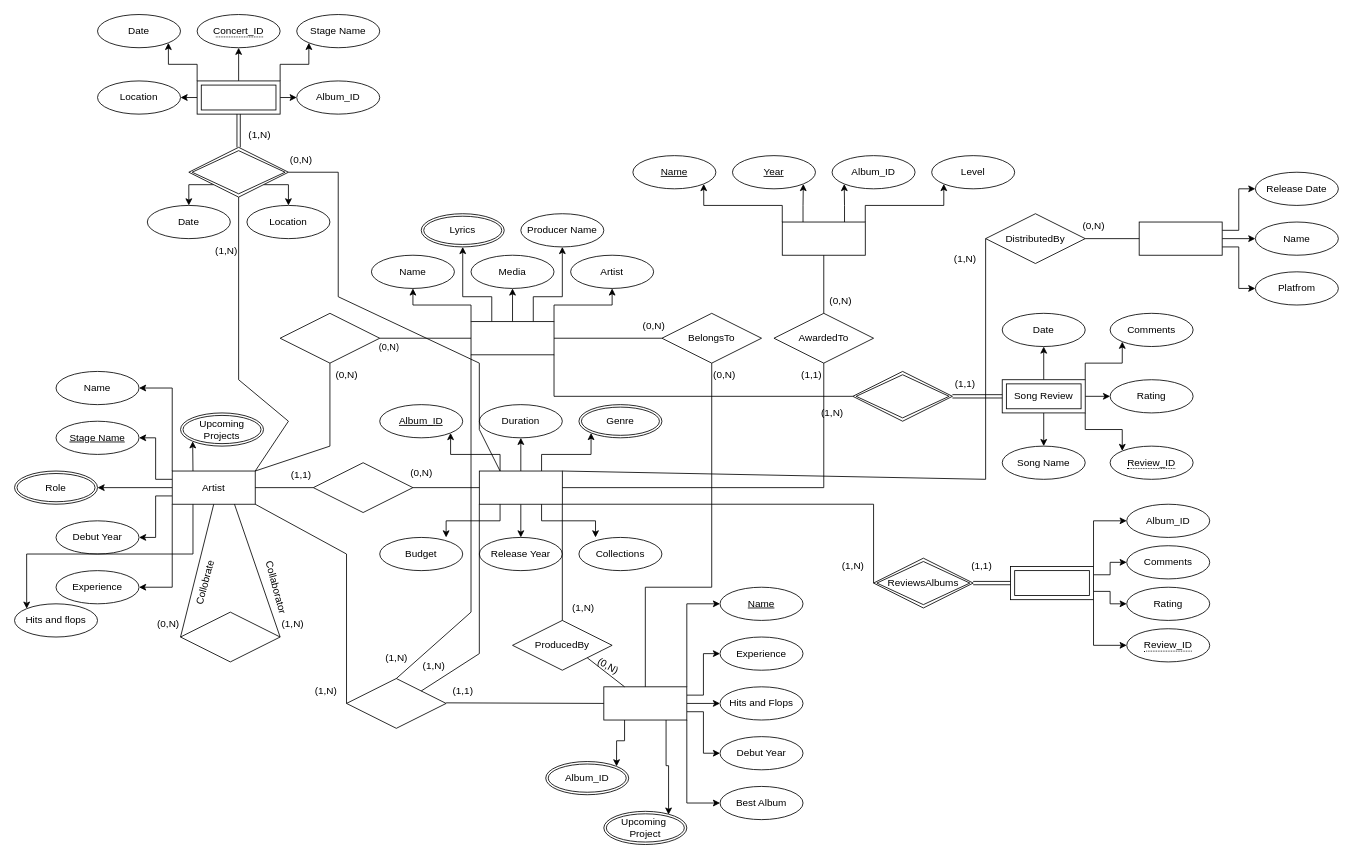
Image size: 1353x859. Some labels were removed from this diagram. Each missing label, with the centre of its shape:
Album: (x=520, y=487)
Album Review: (x=1052, y=583)
Award: (x=823, y=238)
Collaborates: (x=230, y=636)
Composes: (x=362, y=487)
Concert: (x=238, y=97)
ConcertBy: (x=238, y=171)
Distribution: (x=1180, y=238)
Features: (x=396, y=703)
Performs: (x=329, y=337)
Producer: (x=645, y=703)
ReviewSong: (x=902, y=396)
Song: (x=512, y=338)
